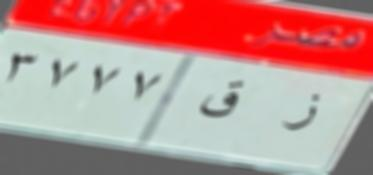3: (3, 46, 38, 90)
7: (86, 60, 122, 101), (47, 55, 80, 94), (130, 66, 163, 102)
qaaf: (195, 74, 249, 134)
zay: (276, 90, 324, 135)
